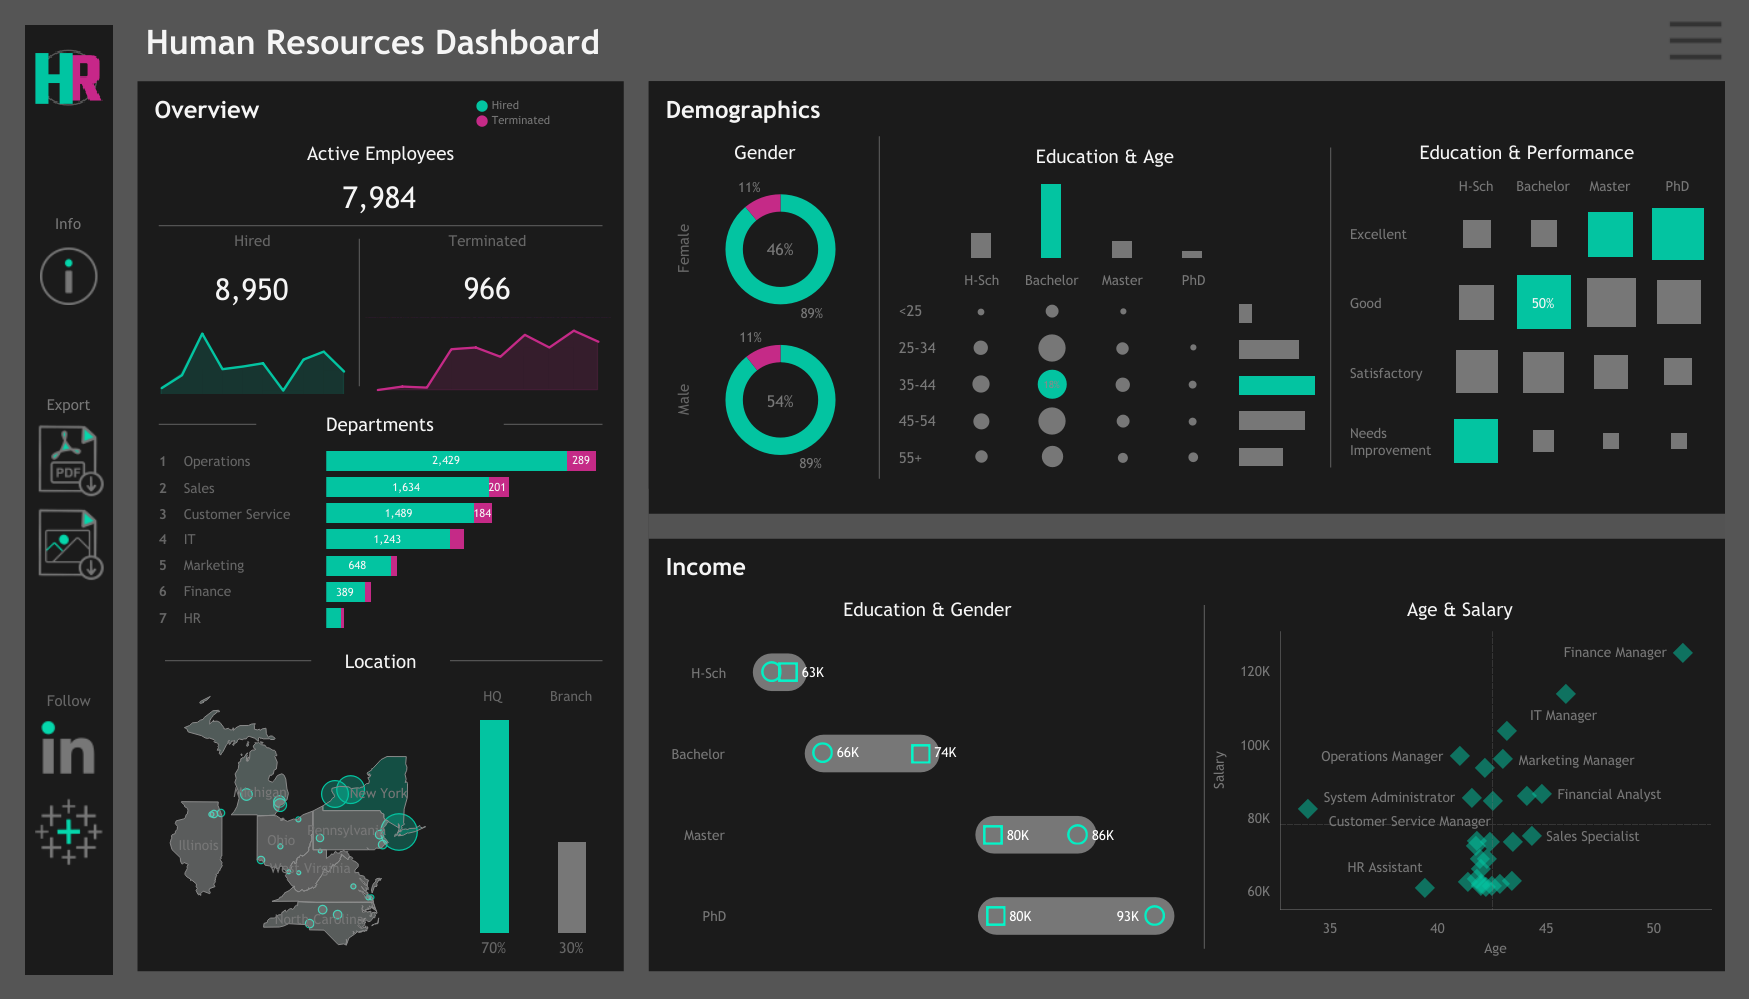

Layout of this report page (visuals, bound fields, positions):
{"tool":"tableau","page":{"name":"Dashboard 1","canvas":[1400,800],"ordinal":0},"visuals":[{"type":"blank","box":[90,0,1310,266]},{"type":"text","box":[110,0,683,65]},{"type":"blank","box":[793,0,587,65]},{"type":"filter","title":"Departments","param":"[federated.1207fkt0qloi0g1ervzjy0ojb895].[none:Gender:nk]","box":[798,4,133,56]},{"type":"filter","title":"Departments","param":"[federated.1207fkt0qloi0g1ervzjy0ojb895].[none:Calculation_1237645511556378632:n","box":[931,4,133,56]},{"type":"filter","title":"Departments","param":"[federated.1207fkt0qloi0g1ervzjy0ojb895].[none:Calculation_1770759107503480839:n","box":[1064,4,133,56]},{"type":"filter","title":"Departments","param":"[federated.1207fkt0qloi0g1ervzjy0ojb895].[yr:Hiredate:ok]","box":[1197,4,132,56]},{"type":"dashboard-object","box":[1334,10,45,45]},{"type":"image","param":"Image/Logo.png","box":[20,20,70,85]},{"type":"text","box":[378,71,85,37]},{"type":"text","box":[117,72,375,35]},{"type":"text","box":[526,72,847,32]},{"type":"blank","box":[20,105,70,62]},{"type":"text","box":[117,107,375,35]},{"type":"text","box":[526,109,172,29]},{"type":"blank","box":[703,109,1,275]},{"type":"text","box":[709,109,350,32]},{"type":"blank","box":[1064,109,1,275]},{"type":"text","box":[1070,109,303,29]},{"type":"worksheet","title":"Gender","mark":"Pie","rows":["Gender"],"cols":["Calculation_1237645502231805957","Calculation_1237645502231805957"],"box":[526,138,172,246]},{"type":"worksheet","title":"Performance vs Education","mark":"Square","rows":["Performance Rating"],"cols":["Education Level"],"box":[1070,138,303,246]},{"type":"worksheet","title":"Education Levels","mark":"Bar","rows":["Calculation_1770759107479523329"],"cols":["Education Level"],"box":[709,141,350,70]},{"type":"worksheet","title":"BAN Active","mark":"Text","box":[117,142,375,42]},{"type":"text","box":[20,167,70,26]},{"type":"blank","box":[117,184,375,1]},{"type":"text","box":[117,185,170,26]},{"type":"blank","box":[287,185,1,138]},{"type":"text","box":[288,185,204,26]},{"type":"dashboard-object","box":[20,193,70,62]},{"type":"worksheet","title":"BAN Hired","mark":"Text","box":[117,211,170,55]},{"type":"worksheet","title":"BAN Terminated","mark":"Text","box":[288,211,204,53]},{"type":"worksheet","title":"Age vs Education","mark":"Circle","rows":["Calculation_1237645502236917767"],"cols":["Education Level"],"box":[709,211,278,173]},{"type":"worksheet","title":"Age Groups","mark":"Bar","rows":["Calculation_1237645502236917767"],"cols":["Calculation_1770759107479523329"],"box":[987,211,72,173]},{"type":"blank","box":[20,255,70,60]},{"type":"worksheet","title":"Terminated by Year","mark":"Line","rows":["Calculation_1770759107479601154","Calculation_1770759107479601154"],"cols":["Termdate"],"box":[288,264,204,59]},{"type":"text","box":[90,266,1310,267]},{"type":"worksheet","title":"Hired by Year","mark":"Line","rows":["Calculation_1770759107479523329","Calculation_1770759107479523329"],"cols":["Hiredate"],"box":[117,266,170,57]},{"type":"text","box":[20,315,70,26]},{"type":"blank","box":[127,328,78,30]},{"type":"text","box":[205,328,198,30]},{"type":"blank","box":[403,328,79,30]},{"type":"dashboard-object","box":[20,341,70,67]},{"type":"worksheet","title":"Departments","mark":"Bar","rows":["Calculation_1770759107500359685","Department"],"cols":["Calculation_1770759107479523329"],"box":[117,358,375,154]},{"type":"dashboard-object","box":[20,408,70,67]},{"type":"blank","box":[519,411,861,20]},{"type":"text","box":[526,438,847,32]},{"type":"blank","box":[20,475,70,71]},{"type":"text","box":[526,475,432,29]},{"type":"blank","box":[963,475,1,295]},{"type":"text","box":[964,475,409,29]},{"type":"worksheet","title":"Gender vs Education Level","mark":"Automatic","rows":["Education Level"],"cols":["Salary","Salary"],"box":[526,504,432,266]},{"type":"worksheet","title":"Age vs Salary","mark":"Shape","rows":["Salary"],"cols":["Calculation_1237645502236364806"],"box":[964,504,409,266]},{"type":"blank","box":[127,517,121,30]},{"type":"text","box":[248,517,113,30]},{"type":"blank","box":[361,517,121,30]},{"type":"blank","box":[90,533,1310,267]},{"type":"text","box":[20,546,70,26]},{"type":"worksheet","title":"Map States","mark":"Automatic","box":[117,547,243.1,223]},{"type":"worksheet","title":"Location","mark":"Bar","rows":["Calculation_1770759107479523329"],"cols":["Calculation_1770759107503480839"],"box":[360.1,547,131.9,223]},{"type":"image","param":"Image/contact-linkedin.png","box":[20,572,70,53]},{"type":"blank","box":[20,625,70,10]},{"type":"image","param":"Image/contact-public.png","box":[20,635,70,62]},{"type":"blank","box":[20,697,70,83]}]}

Visuals, with their boxes in screenshot pixels (x1, y1, x2, y2), scaled from the page's 1400x800 canvas onto the 1749x999 screenshot:
blank: select_region(112, 0, 1748, 332)
text: select_region(137, 0, 991, 81)
blank: select_region(991, 0, 1724, 81)
"Departments" filter: select_region(997, 5, 1163, 75)
"Departments" filter: select_region(1163, 5, 1329, 75)
"Departments" filter: select_region(1329, 5, 1495, 75)
"Departments" filter: select_region(1495, 5, 1660, 75)
dashboard-object: select_region(1667, 12, 1723, 69)
image: select_region(25, 25, 112, 131)
text: select_region(472, 89, 578, 135)
text: select_region(146, 90, 615, 134)
text: select_region(657, 90, 1715, 130)
blank: select_region(25, 131, 112, 209)
text: select_region(146, 134, 615, 177)
text: select_region(657, 136, 872, 172)
blank: select_region(878, 136, 879, 480)
text: select_region(886, 136, 1323, 176)
blank: select_region(1329, 136, 1330, 480)
text: select_region(1337, 136, 1715, 172)
"Gender" worksheet (Pie marks): select_region(657, 172, 872, 480)
"Performance vs Education" worksheet (Square marks): select_region(1337, 172, 1715, 480)
"Education Levels" worksheet (Bar marks): select_region(886, 176, 1323, 263)
"BAN Active" worksheet (Text marks): select_region(146, 177, 615, 230)
text: select_region(25, 209, 112, 241)
blank: select_region(146, 230, 615, 231)
text: select_region(146, 231, 359, 263)
blank: select_region(359, 231, 360, 403)
text: select_region(360, 231, 615, 263)
dashboard-object: select_region(25, 241, 112, 318)
"BAN Hired" worksheet (Text marks): select_region(146, 263, 359, 332)
"BAN Terminated" worksheet (Text marks): select_region(360, 263, 615, 330)
"Age vs Education" worksheet (Circle marks): select_region(886, 263, 1233, 480)
"Age Groups" worksheet (Bar marks): select_region(1233, 263, 1323, 480)
blank: select_region(25, 318, 112, 393)
"Terminated by Year" worksheet (Line marks): select_region(360, 330, 615, 403)
text: select_region(112, 332, 1748, 666)
"Hired by Year" worksheet (Line marks): select_region(146, 332, 359, 403)
text: select_region(25, 393, 112, 426)
blank: select_region(159, 410, 256, 447)
text: select_region(256, 410, 503, 447)
blank: select_region(503, 410, 602, 447)
dashboard-object: select_region(25, 426, 112, 509)
"Departments" worksheet (Bar marks): select_region(146, 447, 615, 639)
dashboard-object: select_region(25, 509, 112, 593)
blank: select_region(648, 513, 1724, 538)
text: select_region(657, 547, 1715, 587)
blank: select_region(25, 593, 112, 682)
text: select_region(657, 593, 1197, 629)
blank: select_region(1203, 593, 1204, 962)
text: select_region(1204, 593, 1715, 629)
"Gender vs Education Level" worksheet: select_region(657, 629, 1197, 962)
"Age vs Salary" worksheet (Shape marks): select_region(1204, 629, 1715, 962)
blank: select_region(159, 646, 310, 683)
text: select_region(310, 646, 451, 683)
blank: select_region(451, 646, 602, 683)
blank: select_region(112, 666, 1748, 998)
text: select_region(25, 682, 112, 714)
"Map States" worksheet: select_region(146, 683, 450, 962)
"Location" worksheet (Bar marks): select_region(450, 683, 615, 962)
image: select_region(25, 714, 112, 780)
blank: select_region(25, 780, 112, 793)
image: select_region(25, 793, 112, 870)
blank: select_region(25, 870, 112, 974)
